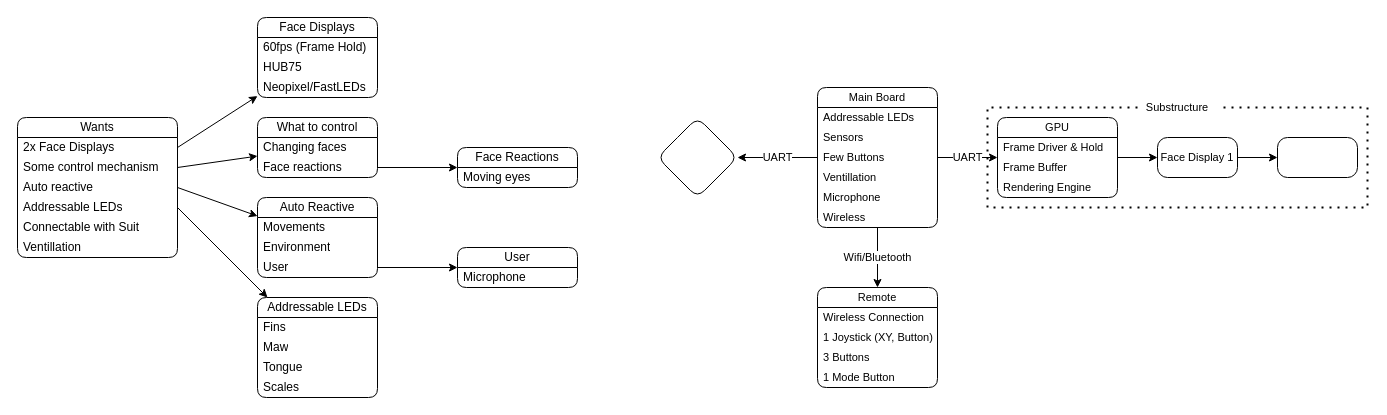
Image size: 1387x415. Some labels were removed from this diagram. Each missing label, with the centre of its shape:
"Face Display 2" goes at [1317,157].
"Suit" goes at [697,157].
